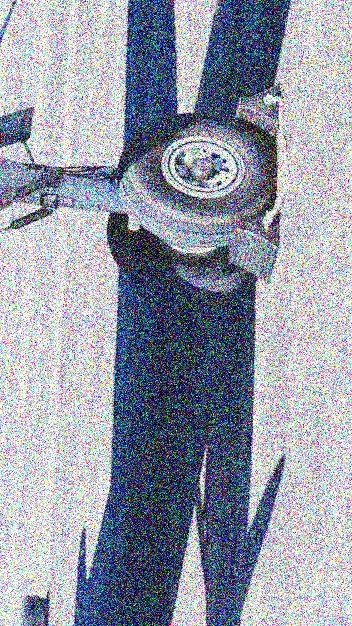chock: (223, 206, 284, 286), (232, 78, 287, 152)
wheel: (115, 110, 279, 247), (100, 212, 257, 308), (17, 595, 49, 624)
